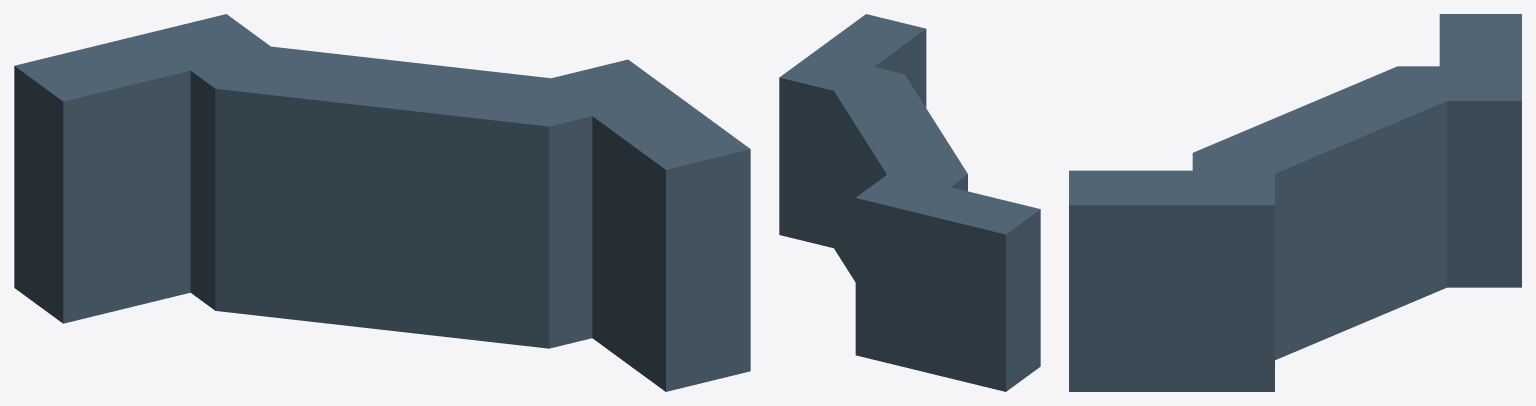
File: W1_WallCorner_Angular2A_Top.fbx
The picture shows the model from 3 angles, left to right: view 1: azimuth 30°, elevation 25°; view 2: azimuth 150°, elevation 25°; view 3: azimuth 270°, elevation 25°; orthographic projection. The views are drawn at different scales.
Visible parts, largest first — view 1: W1_WallCorner_Angular2A_Top.001; view 2: W1_WallCorner_Angular2A_Top.001; view 3: W1_WallCorner_Angular2A_Top.001.
Boxes of the visible parts, <box> form: W1_WallCorner_Angular2A_Top.001: <box>14,14,750,391</box>; W1_WallCorner_Angular2A_Top.001: <box>779,14,1040,391</box>; W1_WallCorner_Angular2A_Top.001: <box>1069,14,1521,391</box>.
Size of the model in its own units: 1.1 by 0.5 by 1.1.
